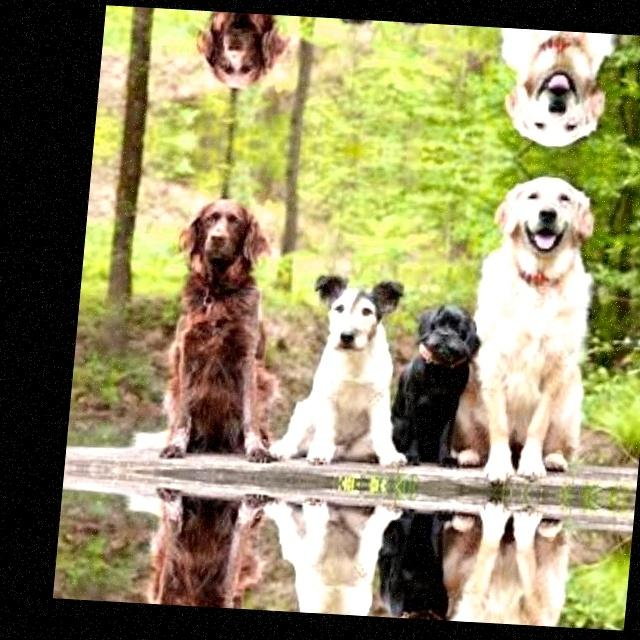dog: (453, 168, 608, 492), (145, 178, 293, 472), (287, 252, 416, 468), (442, 492, 579, 628), (133, 478, 267, 610), (484, 28, 622, 154), (274, 497, 394, 617), (178, 9, 308, 108), (325, 18, 437, 49)
